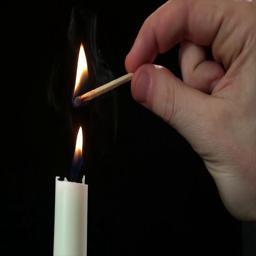fire: (74, 45, 89, 96), (73, 127, 84, 162)
